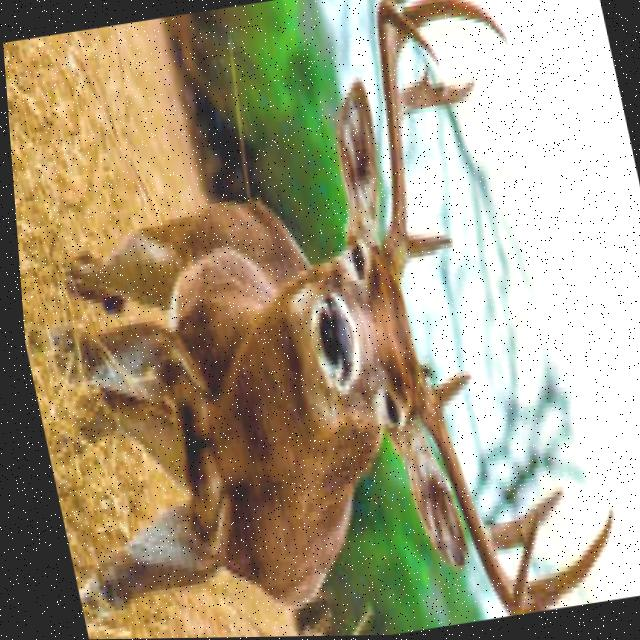L-F: (405, 368, 531, 617)
L-G1: (422, 372, 467, 412)
R-F: (376, 0, 436, 281)
R-G1: (402, 235, 451, 260)
R-G2: (397, 82, 473, 117)
